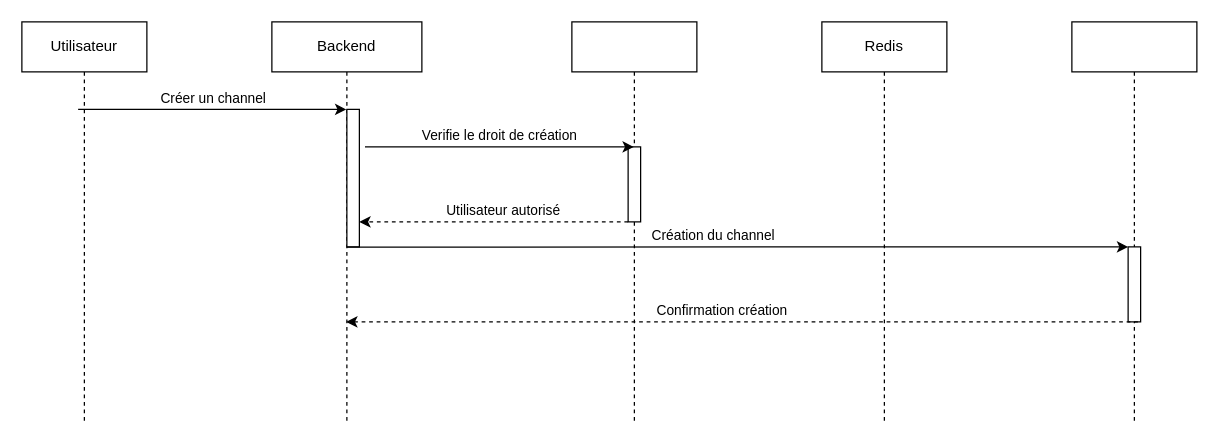
Image size: 1219x444. Some labels were removed from this diagram. Each missing label, with the centre of its shape:
"Authorisation Service" goes at pixel 634 221.
"Base de données" goes at pixel 1134 221.
